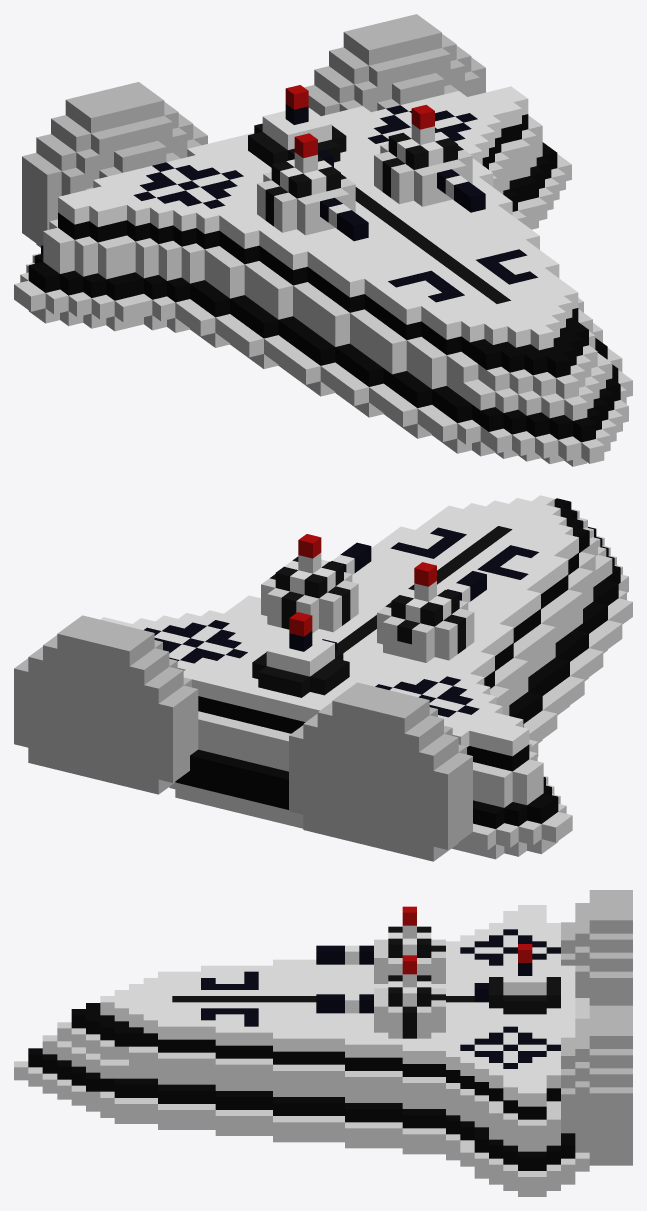
Rendered from spaceship.obj.
3 views of the same model, one above another, from view 1: azimuth 30°, elevation 25°; view 2: azimuth 150°, elevation 25°; view 3: azimuth 270°, elevation 25° (orthographic). The views are drawn at different scales.
Size of the model in its own units: 3.7 by 1.2 by 4.3.
Materials: 1 (1 with a texture image).
